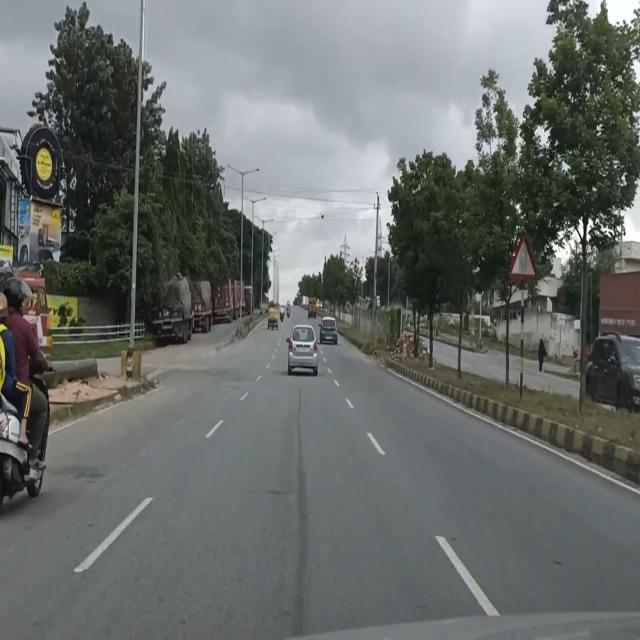bien_cam: (508, 233, 540, 280)
